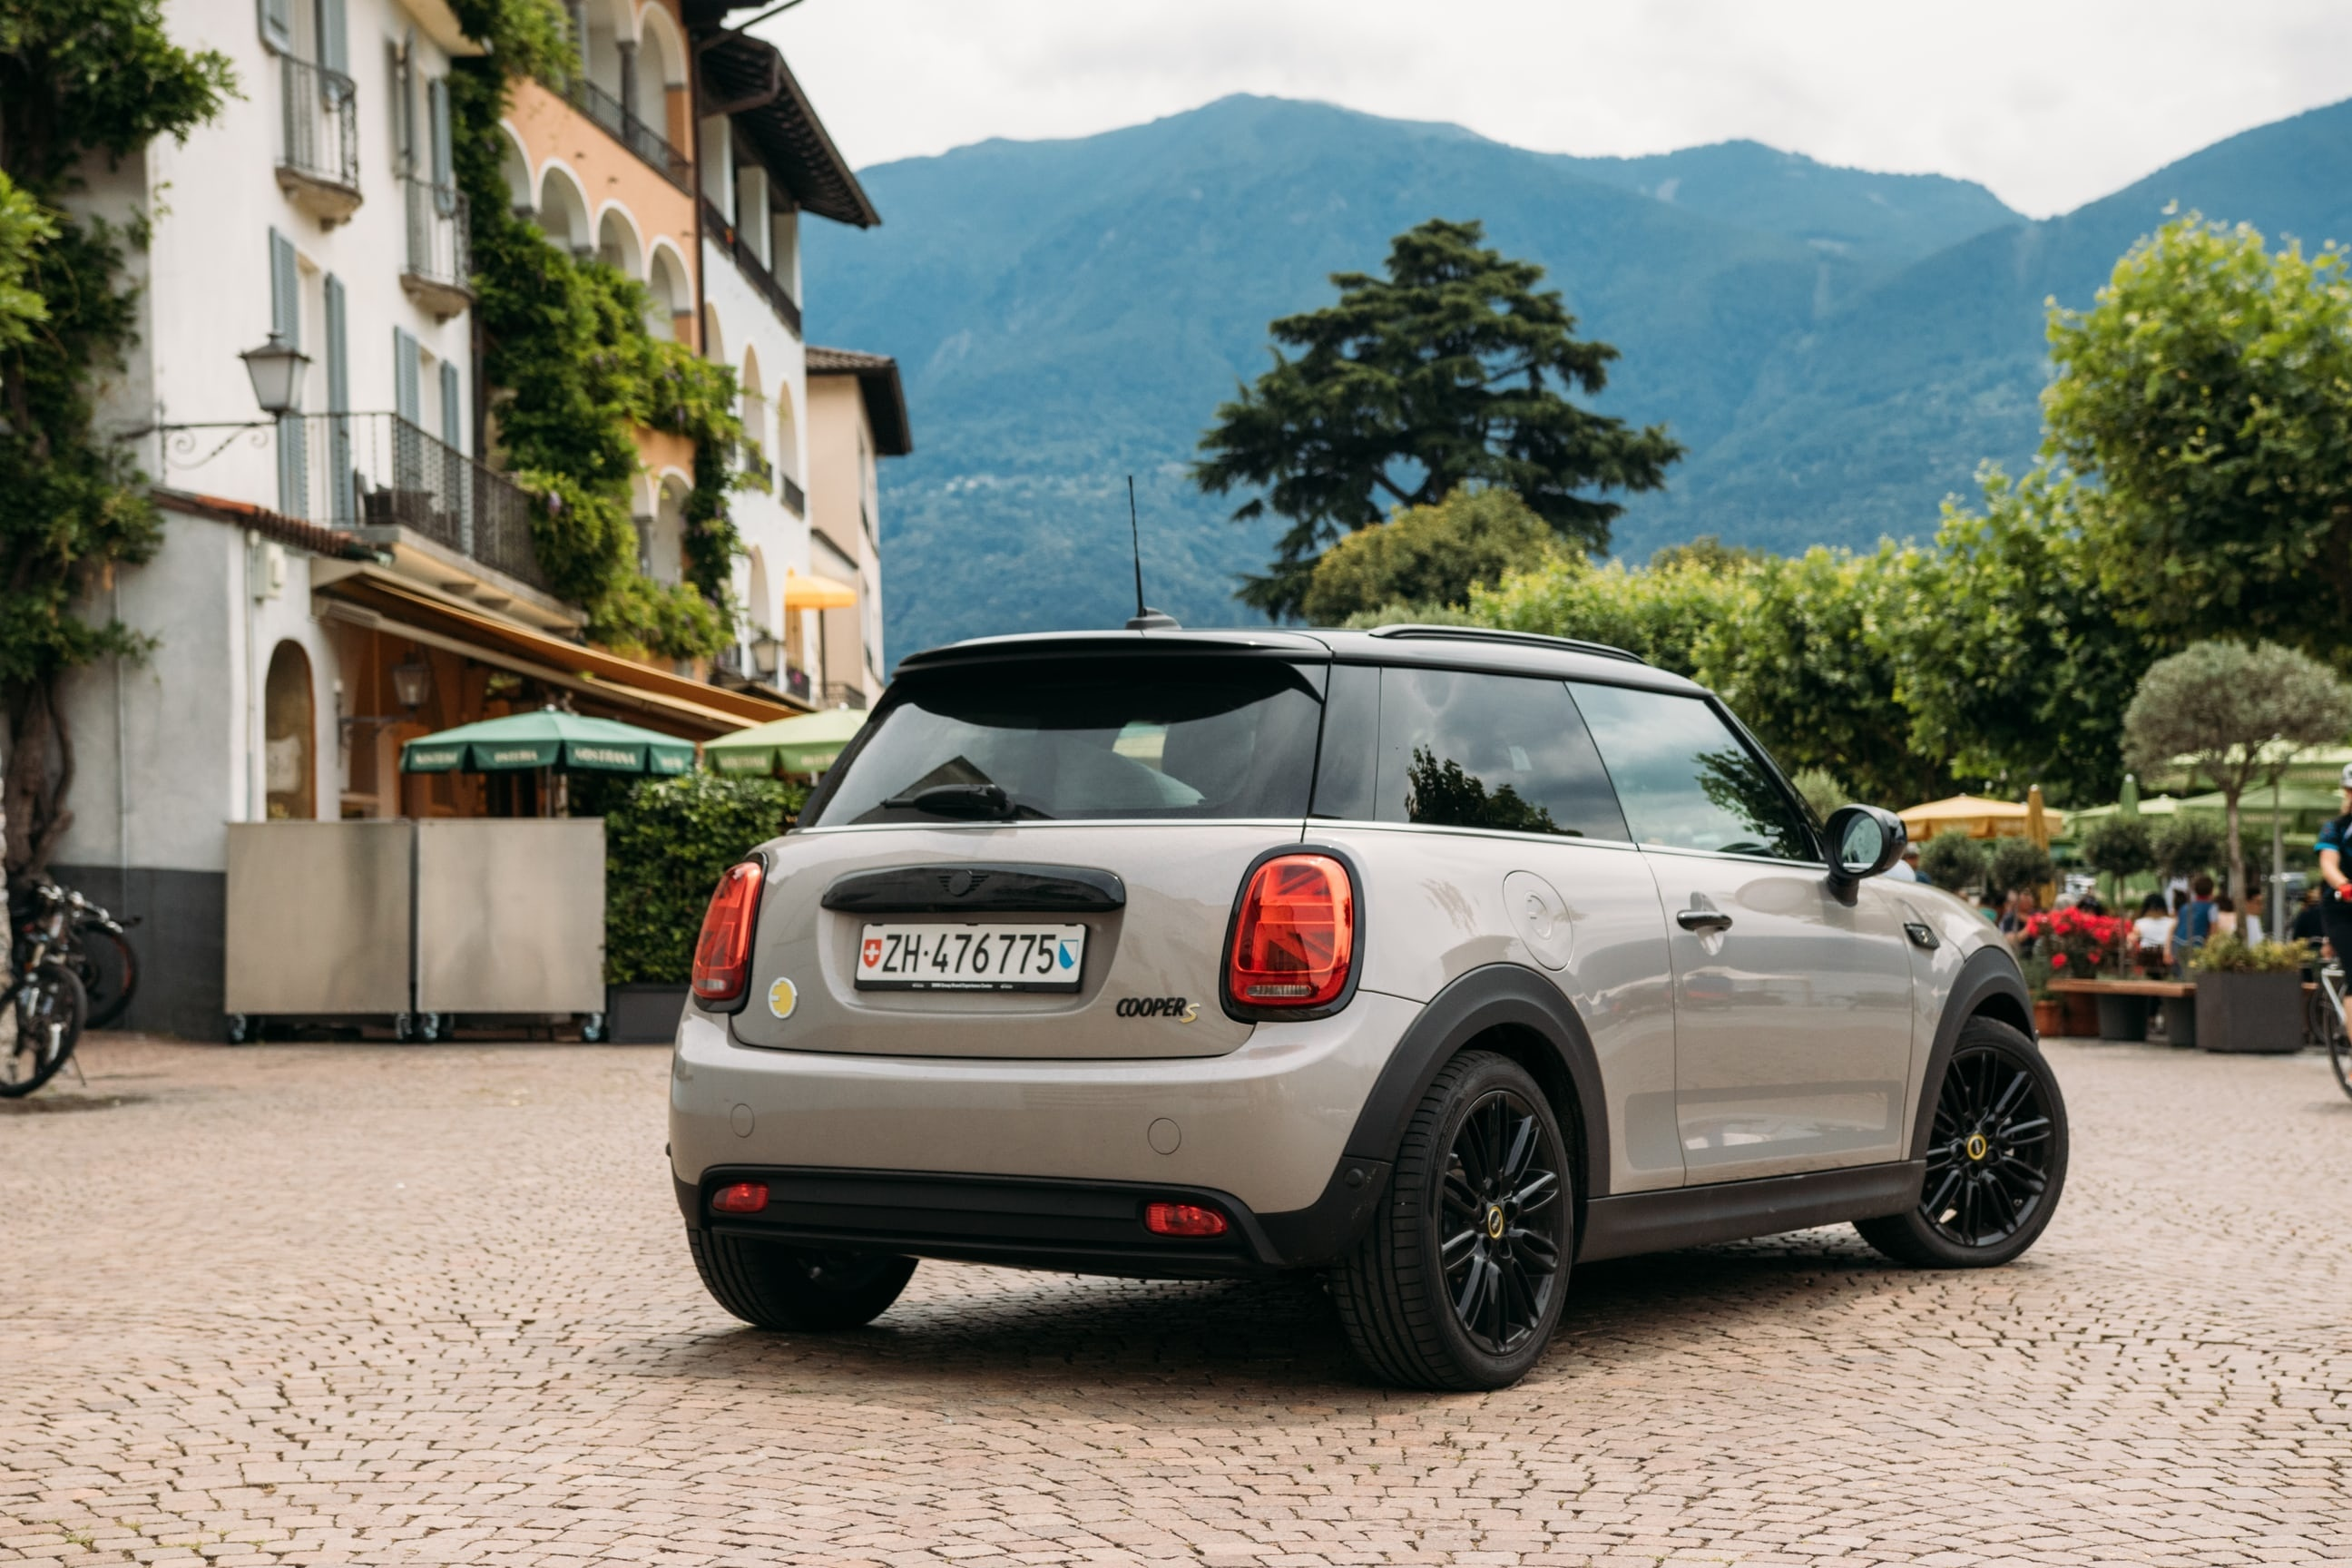plaka: (856, 920, 1088, 986)
